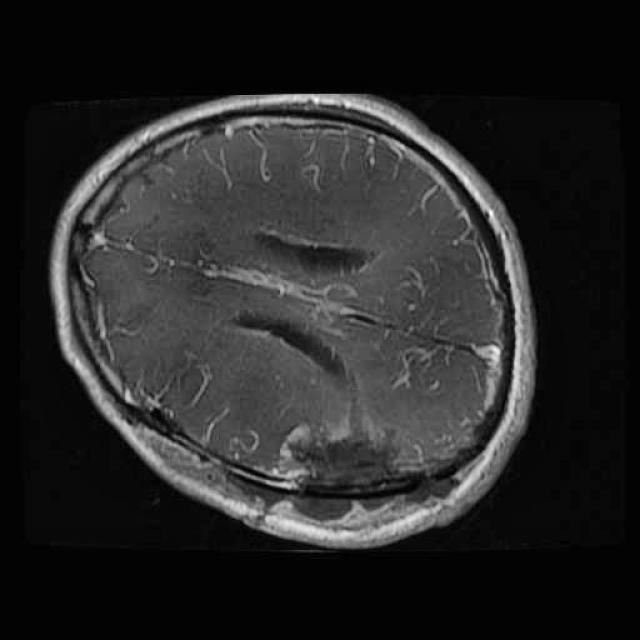Tumor: (257, 403, 414, 533)
